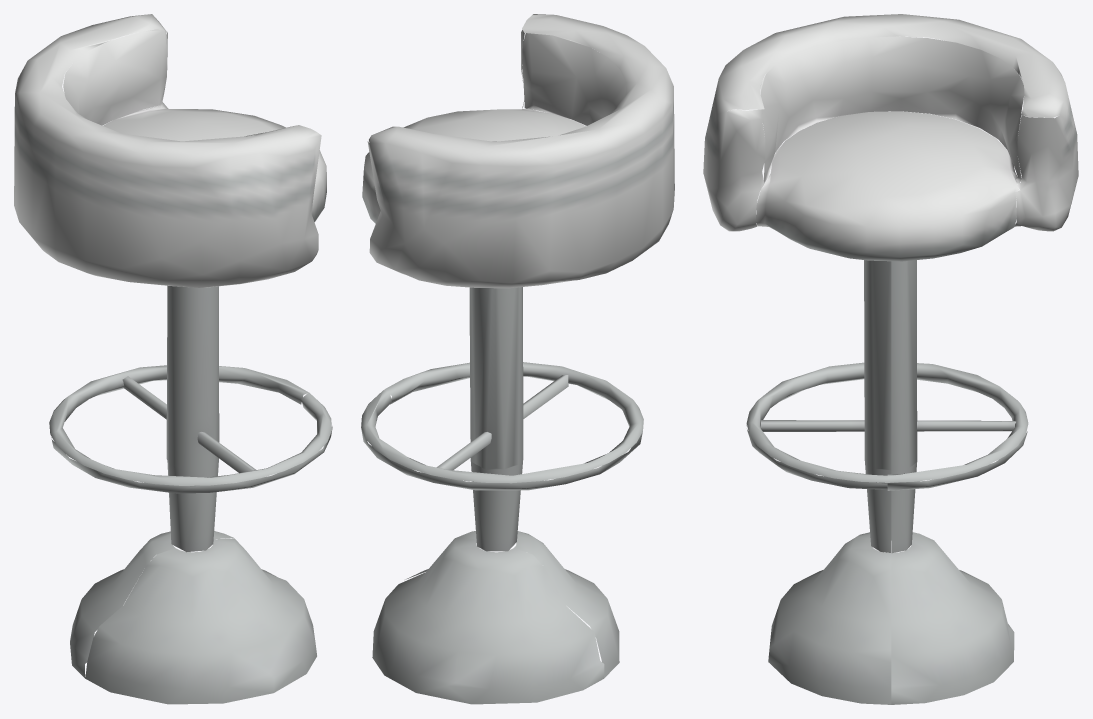
The model's file is bar_stool_1_a.glb.
3 renders of one model, left to right at view 1: azimuth 30°, elevation 25°; view 2: azimuth 150°, elevation 25°; view 3: azimuth 270°, elevation 25°, orthographic.
Parts seen in each view (by area): view 1: bar_stool_1; view 2: bar_stool_1; view 3: bar_stool_1.
Boxes of the visible parts, x1,y1,x2,y2 form: bar_stool_1: [14, 14, 332, 704]; bar_stool_1: [361, 14, 674, 704]; bar_stool_1: [703, 14, 1078, 704].
Bounding box in the file's own units: 0.4741 × 0.9477 × 0.5659.
Materials: 1 (1 with a texture image).
